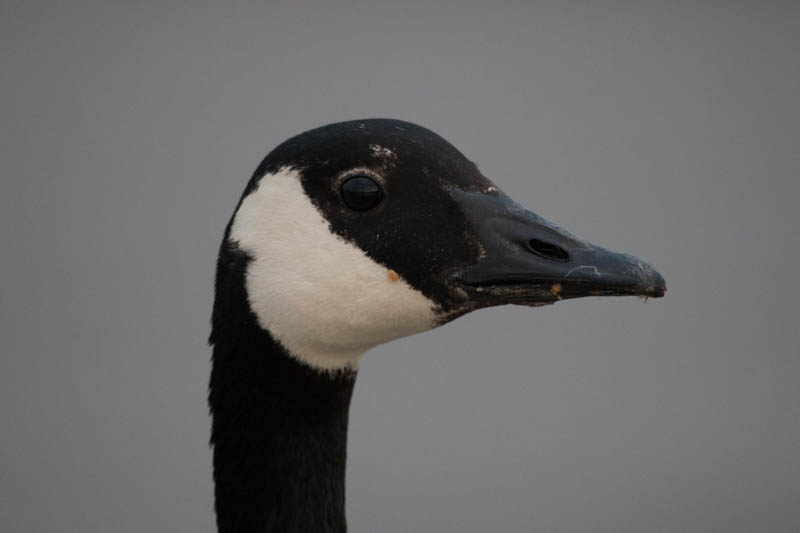goose-head: (213, 117, 666, 373)
